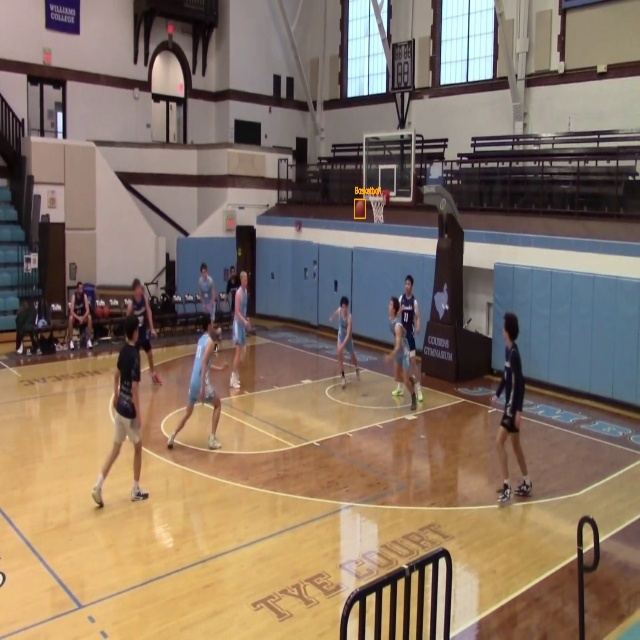Basketball: (355, 199, 365, 218)
